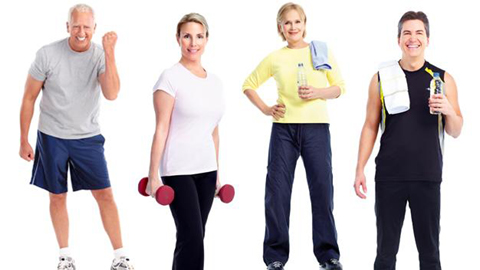person: (378, 10, 467, 117), (40, 5, 118, 86), (159, 14, 220, 109), (266, 5, 333, 84)
